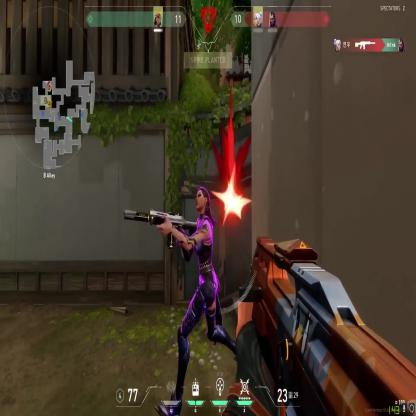enemy: (154, 185, 250, 416)
enemy_head: (194, 186, 208, 216)
